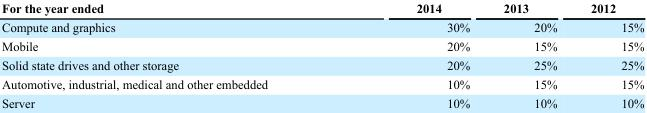table: (0, 0, 643, 109)
table column: (0, 0, 341, 109), (341, 0, 486, 109), (486, 0, 573, 109), (573, 0, 643, 109)
table column header: (0, 0, 643, 17)
table row: (0, 17, 643, 36), (0, 36, 643, 55), (0, 55, 643, 74), (0, 74, 643, 93), (0, 0, 643, 17), (0, 93, 643, 109)
